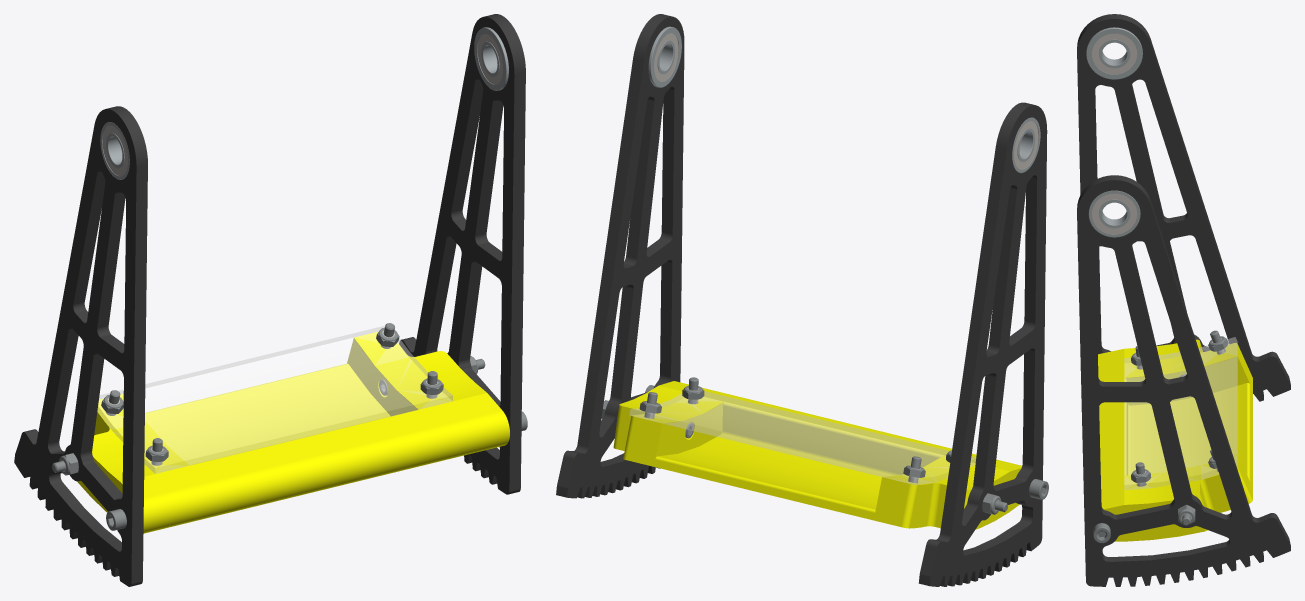
3 renders of one model, left to right at view 1: azimuth 30°, elevation 25°; view 2: azimuth 150°, elevation 25°; view 3: azimuth 270°, elevation 25°, orthographic. The views are drawn at different scales.
Parts seen in each view (by area): view 1: NAUO3, NAUO2, NAUO1, NAUO4, NAUO8, NAUO7; view 2: NAUO2, NAUO3, NAUO1, NAUO4, NAUO8, NAUO7; view 3: NAUO1, NAUO3, NAUO2, NAUO4, NAUO7, NAUO8, NAUO11.
Boxes of the visible parts, x1,y1,x2,y2 form: NAUO3: [77, 332, 509, 533]; NAUO2: [14, 106, 147, 586]; NAUO1: [399, 14, 525, 494]; NAUO4: [97, 326, 452, 473]; NAUO8: [474, 27, 508, 90]; NAUO7: [100, 122, 129, 179]; NAUO2: [918, 102, 1047, 586]; NAUO3: [613, 381, 1021, 529]; NAUO1: [556, 14, 684, 498]; NAUO4: [629, 391, 975, 484]; NAUO8: [648, 26, 681, 87]; NAUO7: [1012, 117, 1040, 173]; NAUO1: [1077, 175, 1290, 586]; NAUO3: [1098, 339, 1252, 541]; NAUO2: [1077, 14, 1290, 401]; NAUO4: [1124, 337, 1237, 490]; NAUO7: [1086, 27, 1142, 79]; NAUO8: [1088, 190, 1140, 237]; NAUO11: [1093, 523, 1110, 543].
Bounding box in the file's own units: 0.2381 × 0.2467 × 0.1176.
